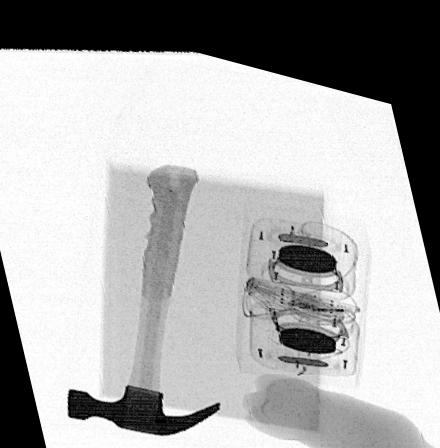Hammer: (66, 152, 222, 427)
